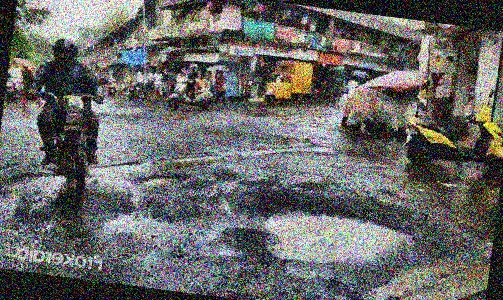pothole: (251, 184, 420, 275), (139, 167, 186, 191)
